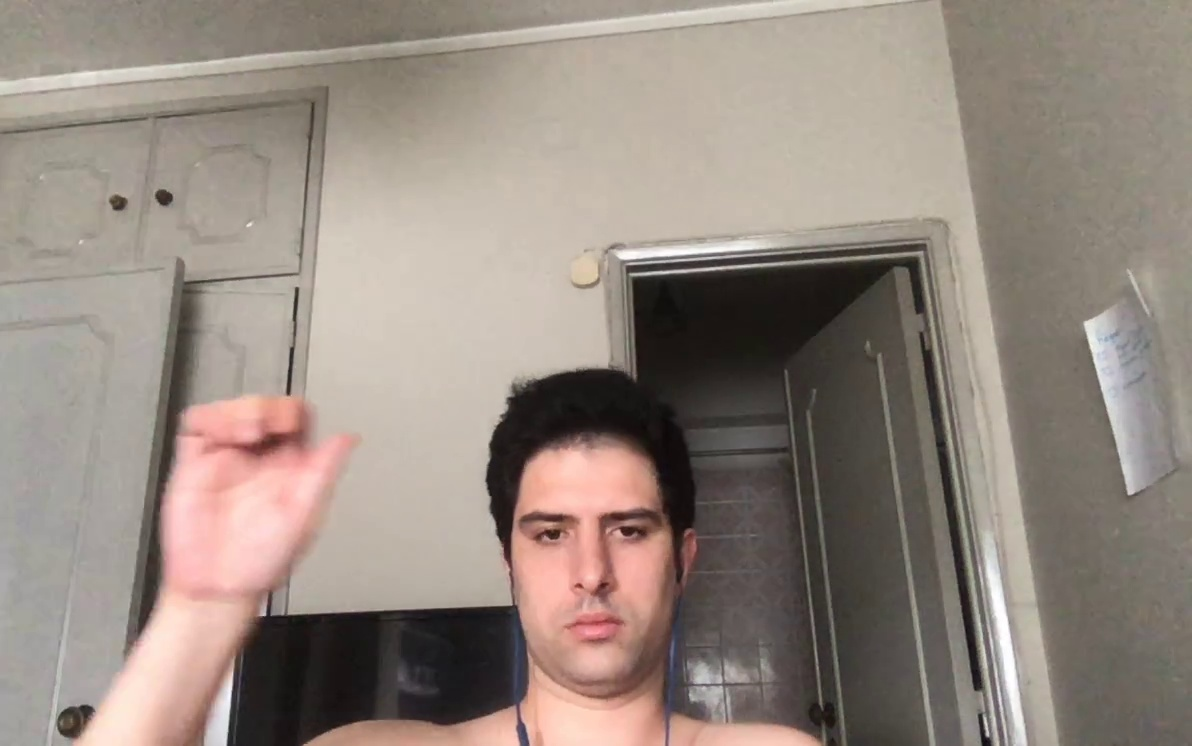c: (161, 390, 368, 592)
